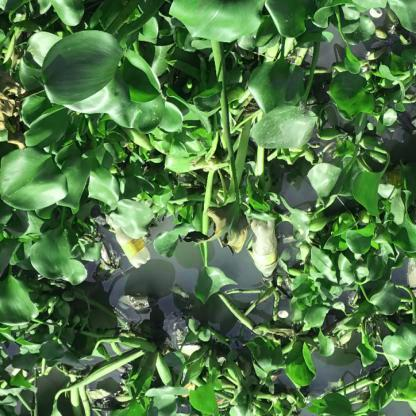Plastic: (108, 212, 151, 269), (246, 217, 281, 284)
